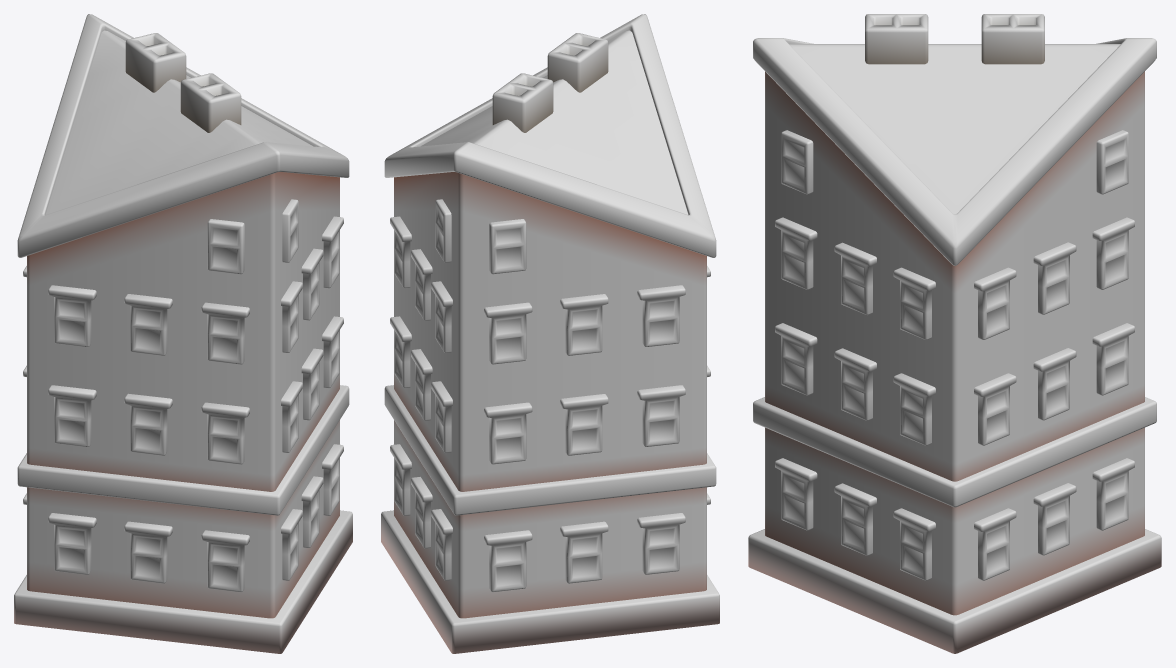
Rendered from Building_101.fbx.
3 renders of one model, left to right at view 1: azimuth 30°, elevation 25°; view 2: azimuth 150°, elevation 25°; view 3: azimuth 270°, elevation 25°, orthographic. The views are drawn at different scales.
Visible parts, largest first — view 1: Building_101; view 2: Building_101; view 3: Building_101.
Boxes of the visible parts, box(x1,y1,x2,y2) form: Building_101: box(14, 14, 352, 653); Building_101: box(381, 14, 719, 653); Building_101: box(748, 14, 1161, 653).
Bounding box in the file's own units: 1063 × 1063 × 1549.
